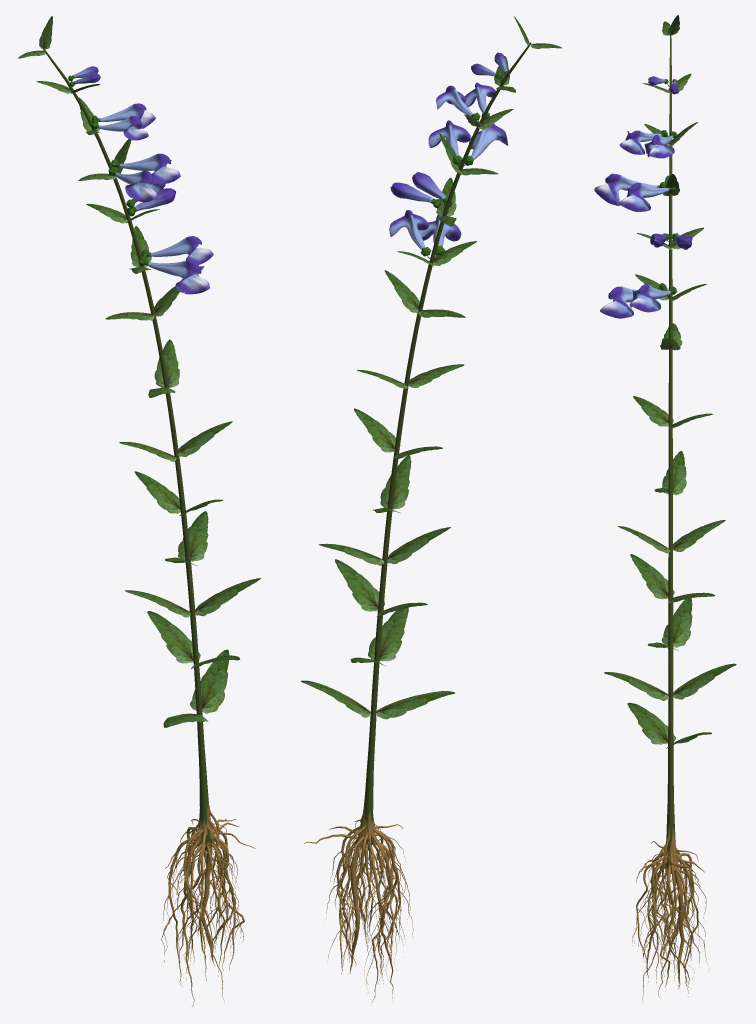
The model's file is banzhilian.fbx.
3 views of the same model, side by side, from view 1: azimuth 30°, elevation 25°; view 2: azimuth 150°, elevation 25°; view 3: azimuth 270°, elevation 25° (orthographic). The views are drawn at different scales.
Visible parts, largest first — view 1: group3; view 2: group3; view 3: group3.
Part boxes in pixels (box(x1,y1,x2,y2)): group3: box(18, 16, 260, 1006); group3: box(301, 16, 562, 1002); group3: box(594, 15, 736, 1002).
Bounding box in the file's own units: 23.46 × 93.59 × 13.46.
